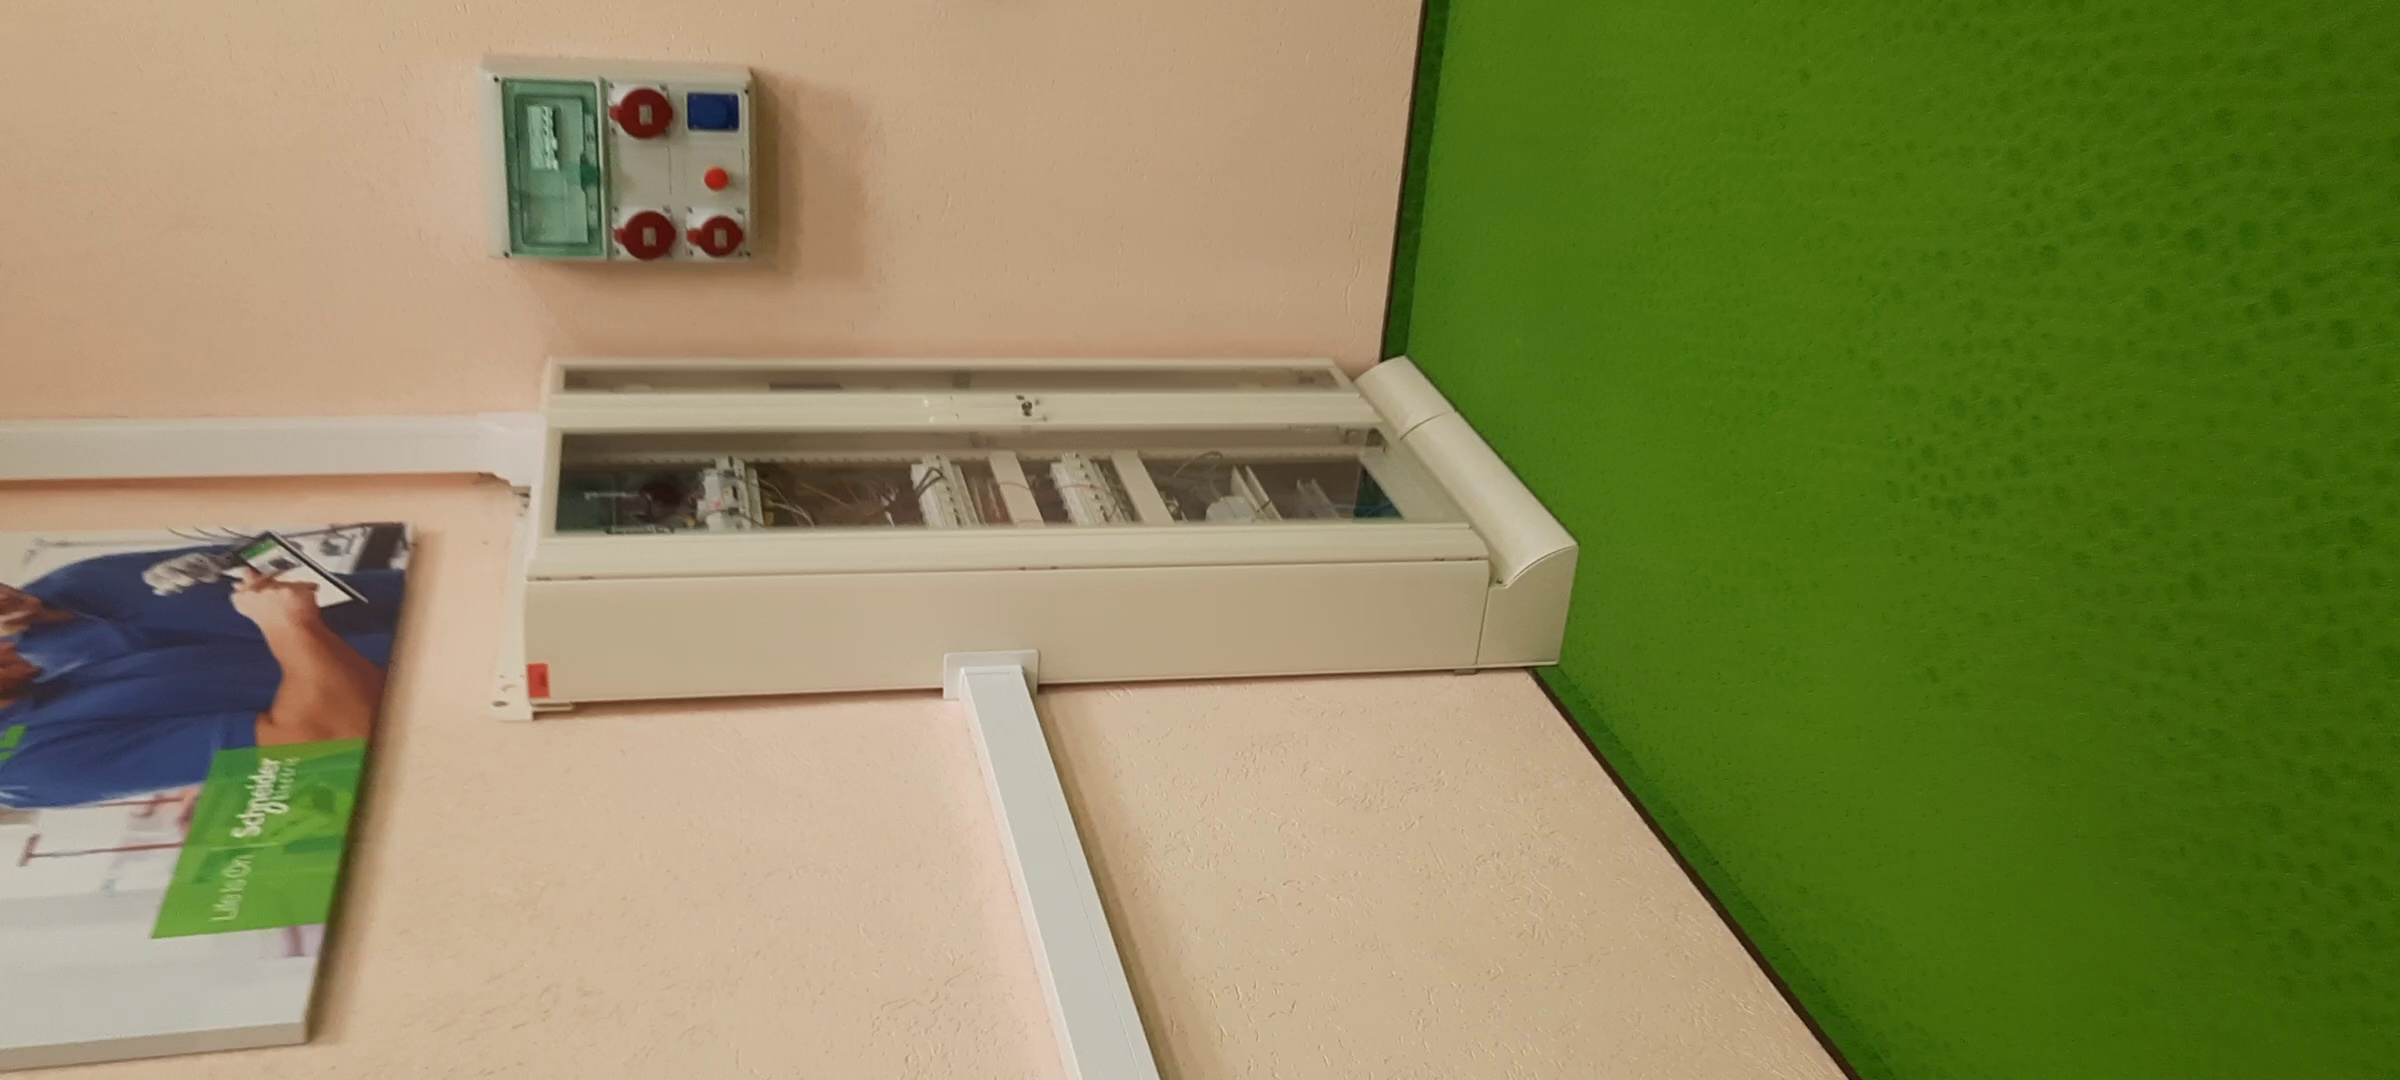stand1: (525, 353, 1566, 702)
